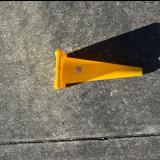cone: (53, 48, 143, 88)
